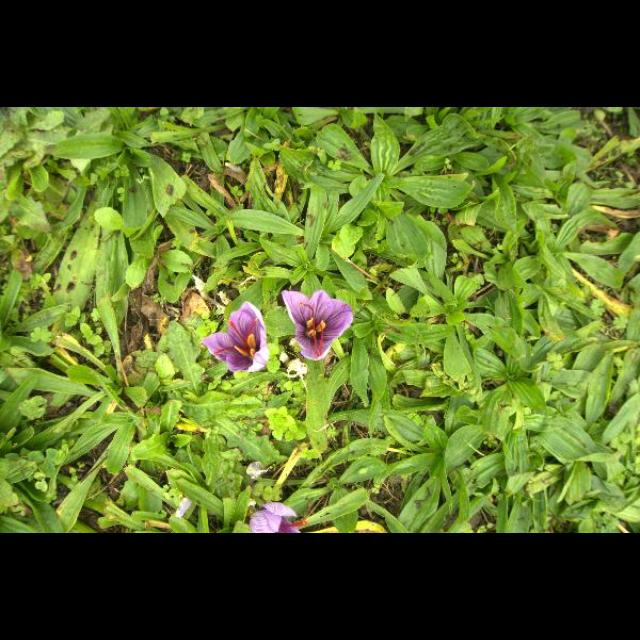flower: (282, 290, 356, 360), (202, 302, 270, 372), (250, 503, 308, 533)
